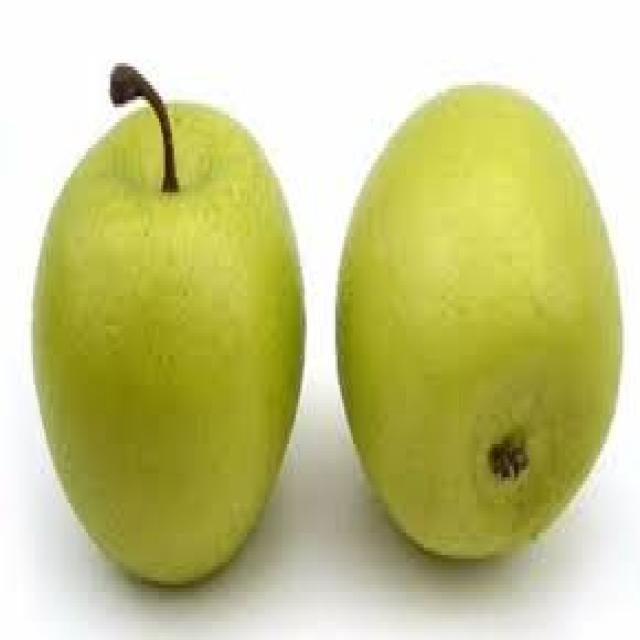50-_ripeness: (22, 52, 315, 602), (327, 84, 621, 570)
